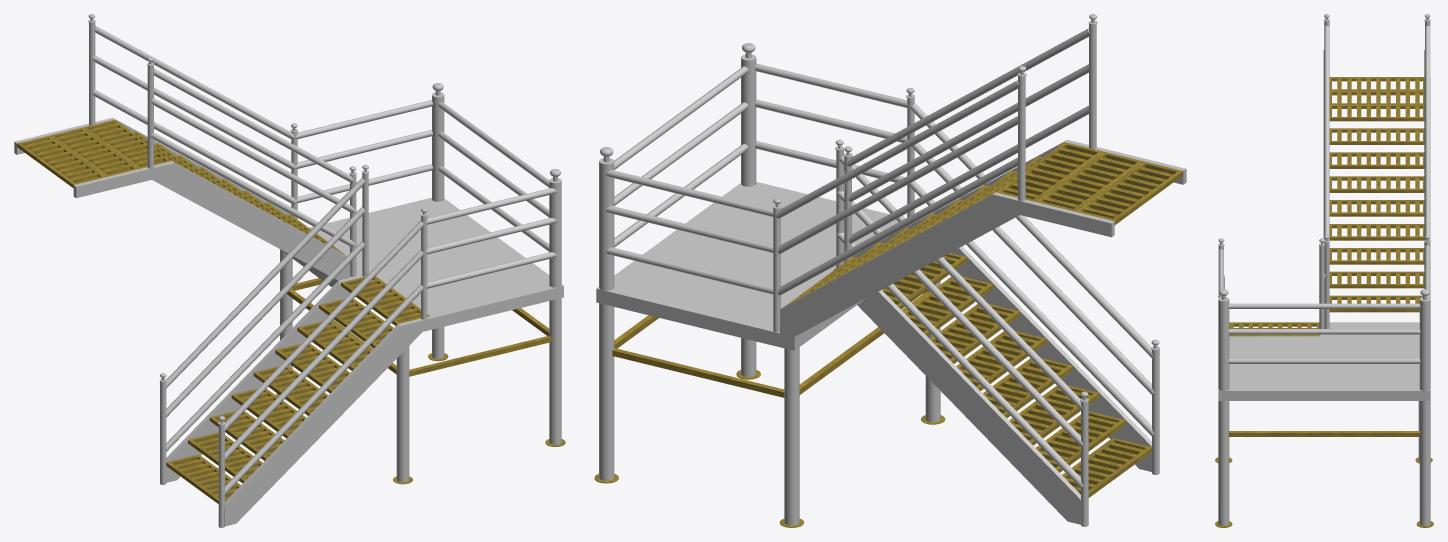
Rendered from stairs2old.gltf.
3 renders of one model, left to right at view 1: azimuth 30°, elevation 25°; view 2: azimuth 150°, elevation 25°; view 3: azimuth 270°, elevation 25°, orthographic. The views are drawn at different scales.
Parts seen in each view (by area): view 1: 3DGeom-248 (×18), 3DGeom-91 (×3), 3DGeom-245, 3DGeom-205 (×9), 3DGeom-185 (×4), 3DGeom-1 (×4), 3DGeom-303, 3DGeom-223; view 2: 3DGeom-248 (×17), 3DGeom-91 (×4), 3DGeom-245, 3DGeom-205 (×9), 3DGeom-185 (×4), 3DGeom-1 (×10), 3DGeom-303, 3DGeom-223; view 3: 3DGeom-245, 3DGeom-1 (×12), 3DGeom-185 (×2), 3DGeom-248 (×5), 3DGeom-205 (×4), 3DGeom-303.
Part boxes in pixels (left/top/right/bottom): 3DGeom-248 (×18): left=89, top=22, right=427, bottom=527; 3DGeom-91 (×3): left=139, top=161, right=432, bottom=526; 3DGeom-245: left=280, top=197, right=563, bottom=329; 3DGeom-205 (×9): left=296, top=100, right=556, bottom=288; 3DGeom-185 (×4): left=280, top=97, right=561, bottom=482; 3DGeom-1 (×4): left=17, top=127, right=429, bottom=503; 3DGeom-303: left=287, top=278, right=551, bottom=376; 3DGeom-223: left=73, top=169, right=141, bottom=198; 3DGeom-248 (×17): left=773, top=24, right=1159, bottom=526; 3DGeom-91 (×4): left=780, top=140, right=1151, bottom=524; 3DGeom-245: left=596, top=182, right=898, bottom=350; 3DGeom-205 (×9): left=606, top=63, right=909, bottom=294; 3DGeom-185 (×4): left=599, top=59, right=940, bottom=525; 3DGeom-1 (×10): left=903, top=142, right=1183, bottom=497; 3DGeom-303: left=612, top=291, right=929, bottom=397; 3DGeom-223: left=1032, top=202, right=1114, bottom=237; 3DGeom-245: left=1218, top=322, right=1430, bottom=400; 3DGeom-1 (×12): left=1229, top=77, right=1424, bottom=336; 3DGeom-185 (×2): left=1218, top=300, right=1430, bottom=525; 3DGeom-248 (×5): left=1319, top=26, right=1430, bottom=328; 3DGeom-205 (×4): left=1228, top=245, right=1429, bottom=363; 3DGeom-303: left=1228, top=431, right=1420, bottom=436.
Size of the model in its own units: 3.93 by 3.73 by 2.02.
